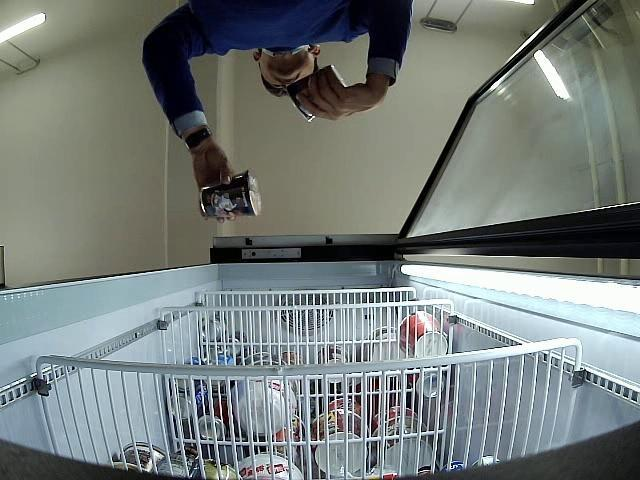08_buldak_S: (286, 65, 346, 122), (200, 170, 261, 218)
